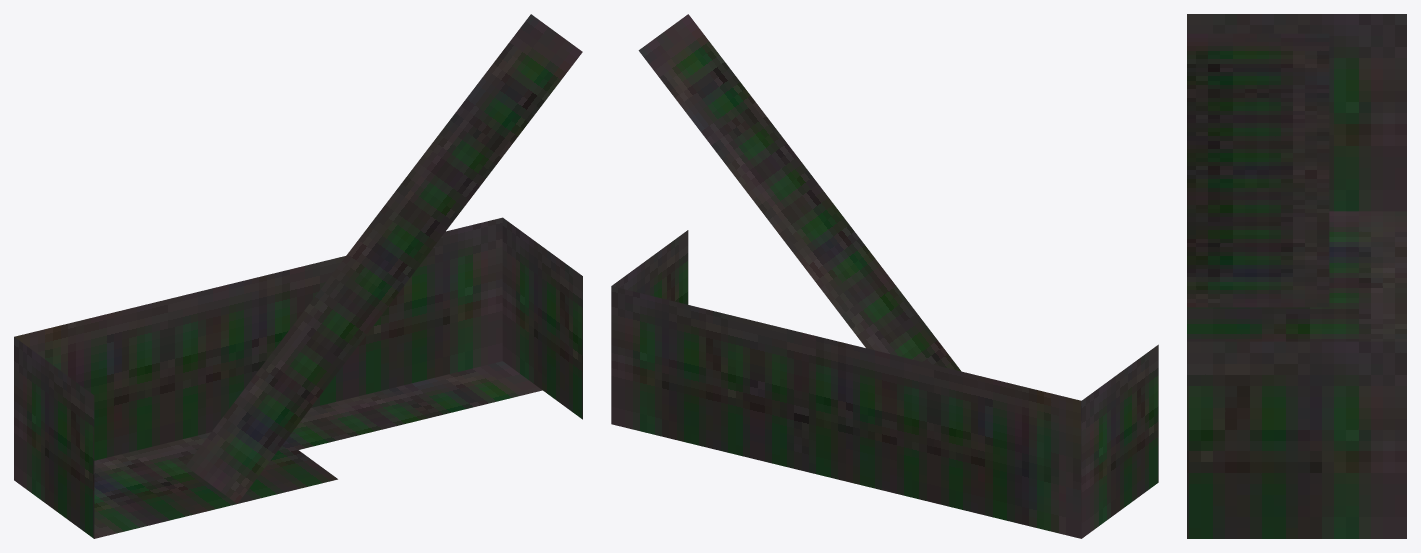
File: balcony-ladder-bottom.glb
3 renders of one model, left to right at view 1: azimuth 30°, elevation 25°; view 2: azimuth 150°, elevation 25°; view 3: azimuth 270°, elevation 25°, orthographic. The views are drawn at different scales.
Visible parts, largest first — view 1: balcony-ladder-bottom; view 2: balcony-ladder-bottom; view 3: balcony-ladder-bottom.
Part boxes in pixels (left/top/right/bottom): balcony-ladder-bottom: left=14, top=14, right=582, bottom=538; balcony-ladder-bottom: left=611, top=14, right=1158, bottom=538; balcony-ladder-bottom: left=1187, top=14, right=1406, bottom=538.
Size of the model in its own units: 1 by 0.7192 by 0.2837.
Materials: 1 (1 with a texture image).
